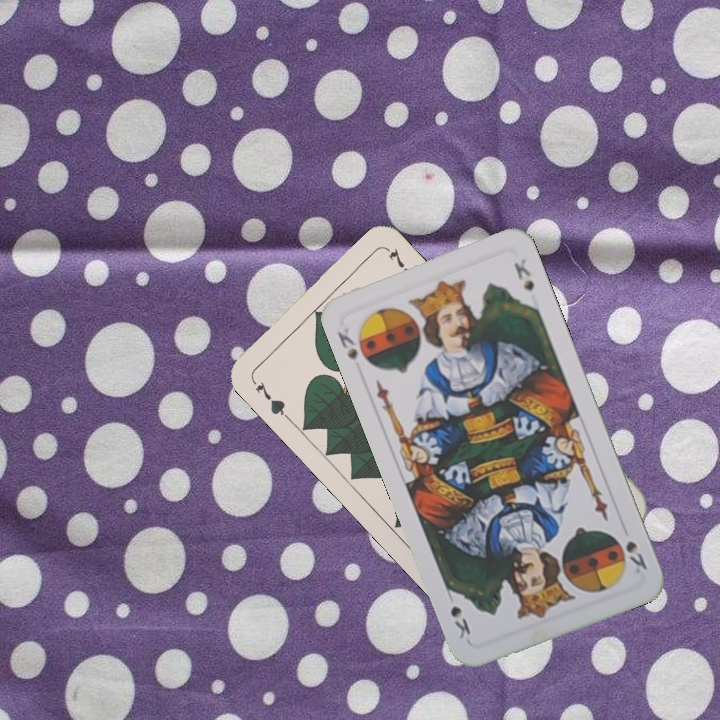G7: (247, 373, 291, 422)
SK: (621, 536, 650, 577), (333, 323, 361, 363)
